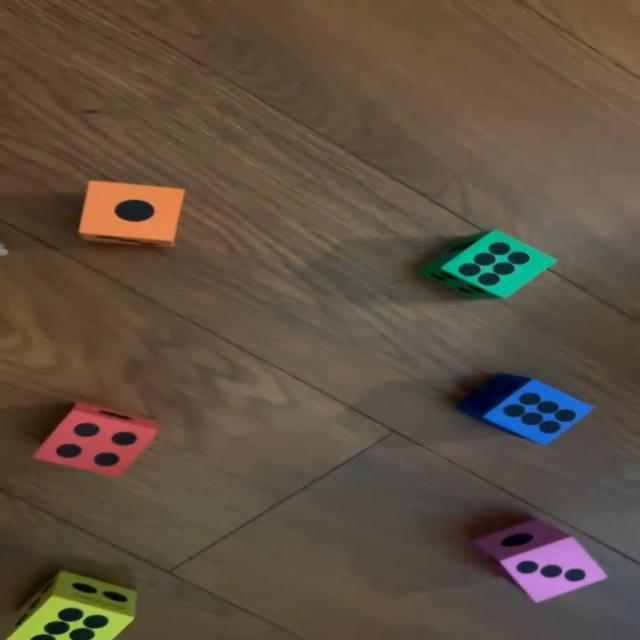blue_block: (456, 374, 594, 445)
red_block: (34, 402, 159, 477)
